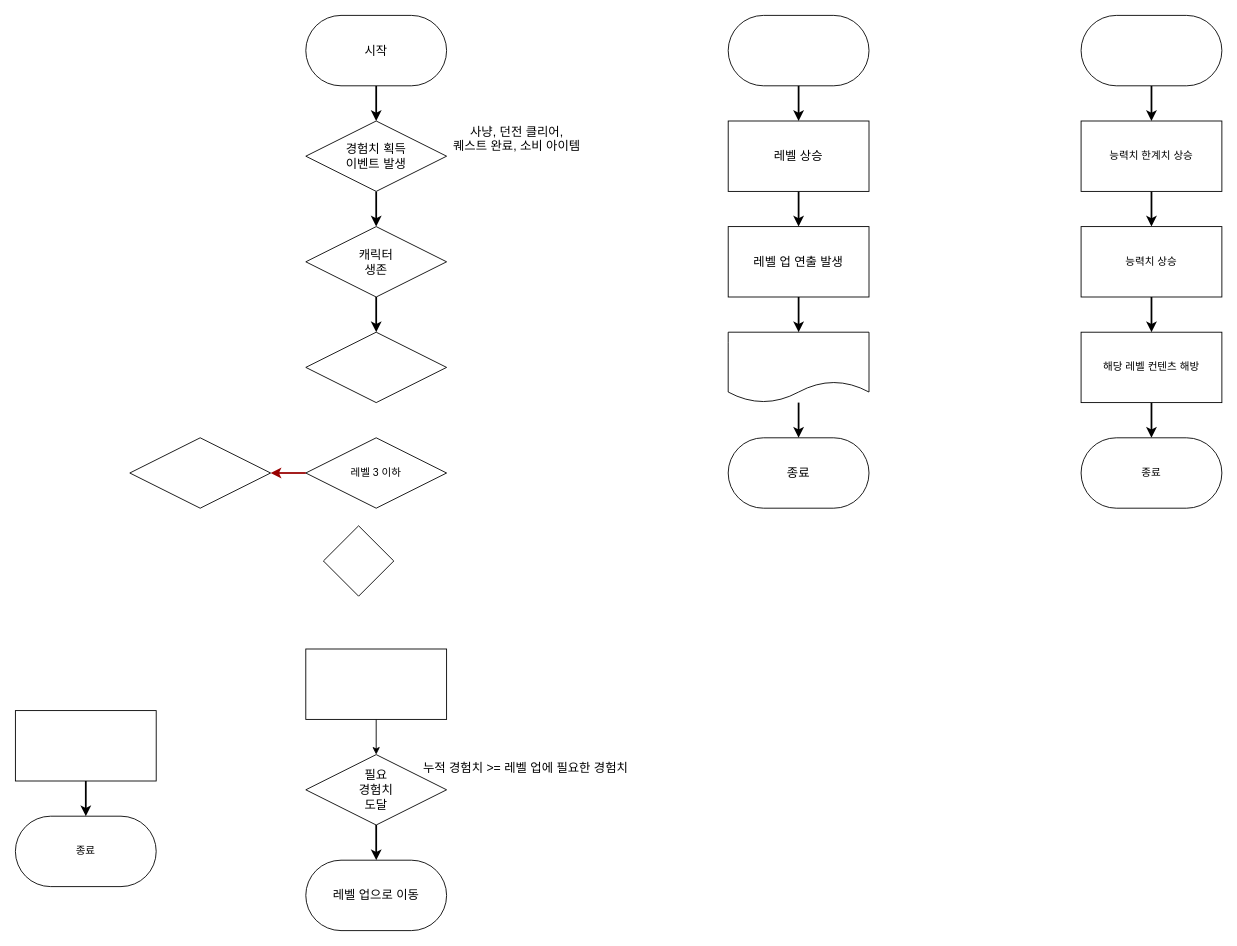
This 1237x946 diagram has some shape labels left out. The centre of each missing label's shape, as x and y in pixels:
"경험치 99.99%에서 정지" goes at (x=85, y=745).
"경험치 획득" goes at (x=376, y=683).
"레벨 7 이하" goes at (x=376, y=367).
"레벨 달성 보상" goes at (x=1151, y=50).
"레벨 업 시작" goes at (x=798, y=50).
"레벨 업 텍스트 출력" goes at (x=798, y=367).
"모든 능력치 한계치 도달" goes at (x=200, y=472).
